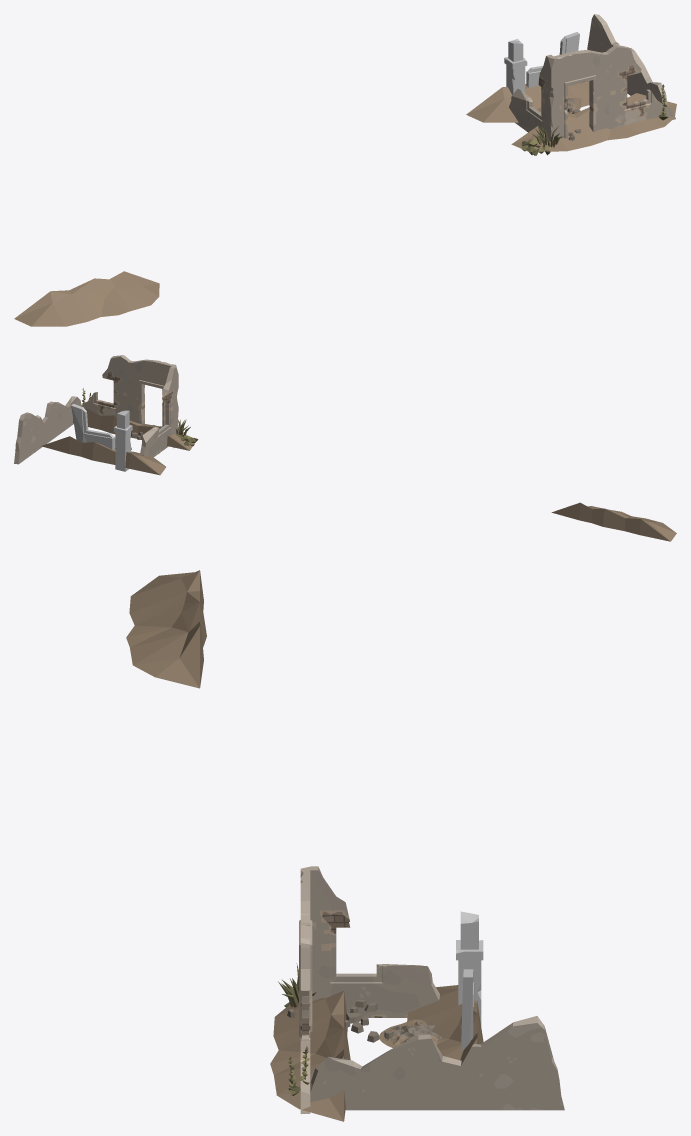
The model's file is Env_3.fbx.
3 views of the same model, one above another, from view 1: azimuth 30°, elevation 25°; view 2: azimuth 150°, elevation 25°; view 3: azimuth 270°, elevation 25° (orthographic). The views are drawn at different scales.
Visible parts, largest first — view 1: SM_Bld_Ruins_02, SM_Env_SandEdge_03__4_, SM_Env_SandEdge_03__1_, SM_Env_SandEdge_03__1__1, SM_Bld_Ruins_05, SM_Bld_Village_Archway_Pillar_01_Destroyed, SM_Bld_Village_05_Destroyed; view 2: SM_Bld_Ruins_02, SM_Bld_Ruins_05, SM_Env_SandEdge_03__4_, SM_Env_SandEdge_03__1__1, SM_Env_SandEdge_03__1_, SM_Bld_Village_05_Destroyed, SM_Bld_Village_Archway_Pillar_01_Destroyed; view 3: SM_Bld_Ruins_05, SM_Bld_Ruins_02, SM_Env_SandEdge_03__4_, SM_Env_SandEdge_03__1_, SM_Env_SandEdge_03__1__1, SM_Bld_Village_Archway_Pillar_01_Destroyed, SM_Env_Mountain_07__1_, SM_Bld_Village_05_Destroyed, SM_Env_Pebbles_04__1_.
Boxes of the visible parts, x1,y1,x2,y2 form: SM_Bld_Ruins_02: [509, 45, 675, 141]; SM_Env_SandEdge_03__4_: [14, 271, 159, 326]; SM_Env_SandEdge_03__1_: [511, 93, 676, 151]; SM_Env_SandEdge_03__1__1: [466, 81, 589, 122]; SM_Bld_Ruins_05: [587, 14, 667, 106]; SM_Bld_Village_Archway_Pillar_01_Destroyed: [504, 38, 527, 94]; SM_Bld_Village_05_Destroyed: [526, 32, 579, 88]; SM_Bld_Ruins_02: [82, 355, 178, 457]; SM_Bld_Ruins_05: [14, 396, 81, 464]; SM_Env_SandEdge_03__4_: [551, 502, 676, 541]; SM_Env_SandEdge_03__1__1: [41, 436, 165, 475]; SM_Env_SandEdge_03__1_: [73, 408, 194, 450]; SM_Bld_Village_05_Destroyed: [71, 404, 114, 449]; SM_Bld_Village_Archway_Pillar_01_Destroyed: [114, 410, 132, 471]; SM_Bld_Ruins_05: [310, 1016, 564, 1110]; SM_Bld_Ruins_02: [299, 866, 439, 1113]; SM_Env_SandEdge_03__4_: [126, 570, 206, 688]; SM_Env_SandEdge_03__1_: [270, 991, 350, 1121]; SM_Env_SandEdge_03__1__1: [407, 985, 483, 1060]; SM_Bld_Village_Archway_Pillar_01_Destroyed: [456, 911, 483, 1025]; SM_Env_Mountain_07__1_: [379, 1019, 441, 1047]; SM_Bld_Village_05_Destroyed: [461, 969, 474, 1050]; SM_Env_Pebbles_04__1_: [287, 1000, 392, 1042].
Bounding box in the file's own units: 3459 × 459 × 1130.
